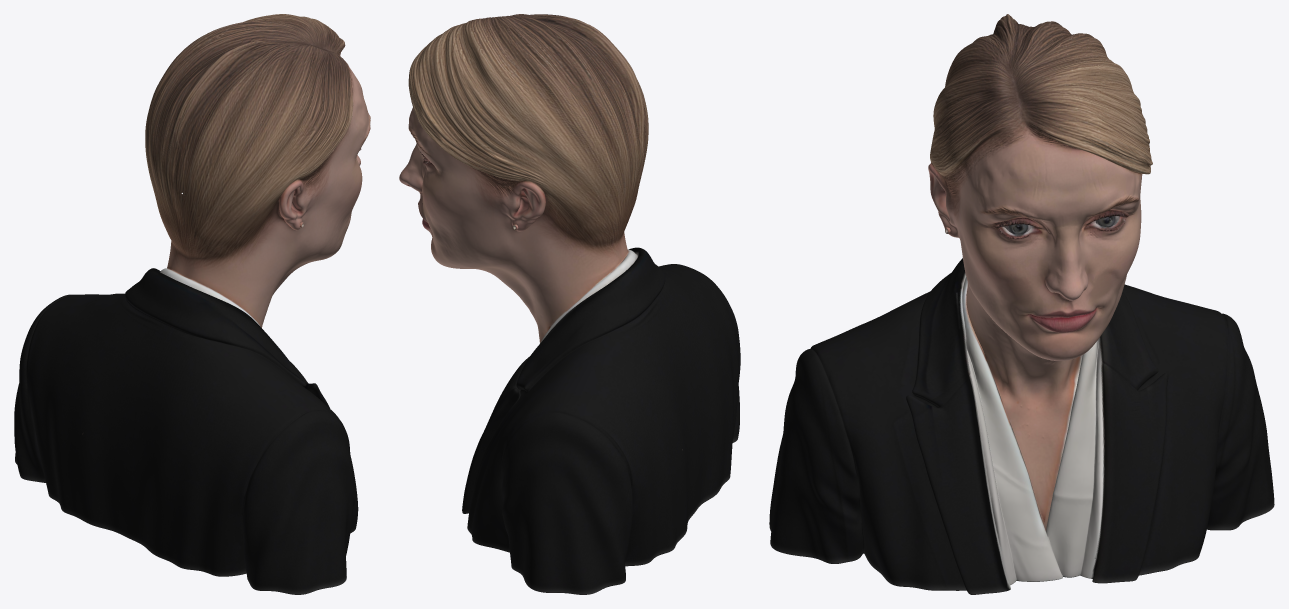
Rendered from astrid-surface-repair.glb.
3 views of the same model, side by side, from view 1: azimuth 30°, elevation 25°; view 2: azimuth 150°, elevation 25°; view 3: azimuth 270°, elevation 25° (orthographic). The views are drawn at different scales.
Parts seen in each view (by area): view 1: tripo_node_385684b8-777c-4916-b7d8-df5140e3ae68; view 2: tripo_node_385684b8-777c-4916-b7d8-df5140e3ae68; view 3: tripo_node_385684b8-777c-4916-b7d8-df5140e3ae68.
Boxes of the visible parts, <box> form: tripo_node_385684b8-777c-4916-b7d8-df5140e3ae68: <box>14,14,370,594</box>; tripo_node_385684b8-777c-4916-b7d8-df5140e3ae68: <box>399,14,740,594</box>; tripo_node_385684b8-777c-4916-b7d8-df5140e3ae68: <box>769,14,1274,594</box>.
Bounding box in the file's own units: 0.6423 × 1 × 0.8603.
1 material, 1 textured.
